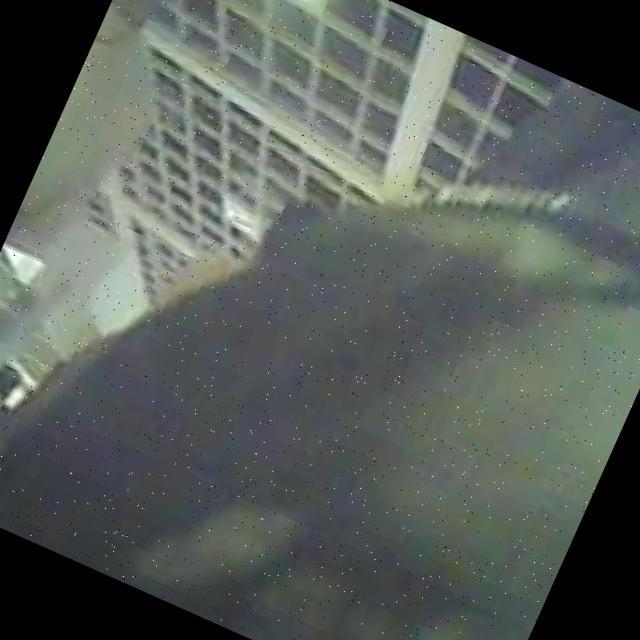person: (11, 0, 254, 268)
